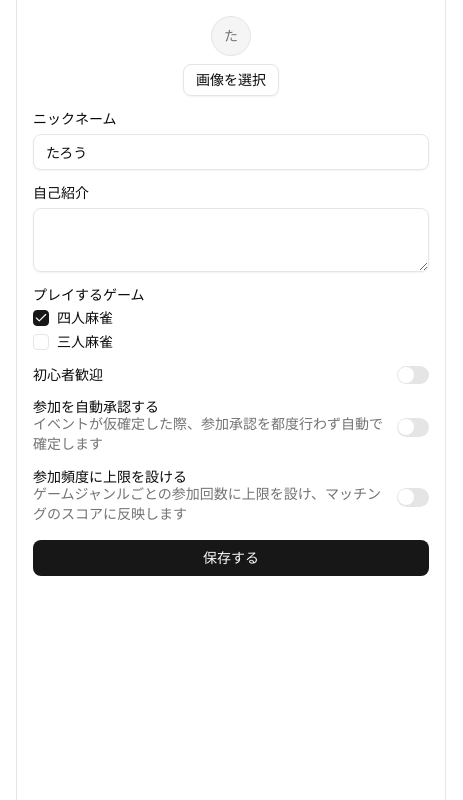
ProfileEditPage › 上限設定オンで回数未入力のまま保存するとインラインエラーを出し、送信しない
expect the field labelled "ニックネーム" is shown: met, box [33,134,429,170]
Click the switch named "参加頻度に上限を設ける" next to "ゲームジャンルごとの参加回数に上限を設け、マッチングのスコアに反映します": {"x": 413, "y": 497} [397,488,429,507]
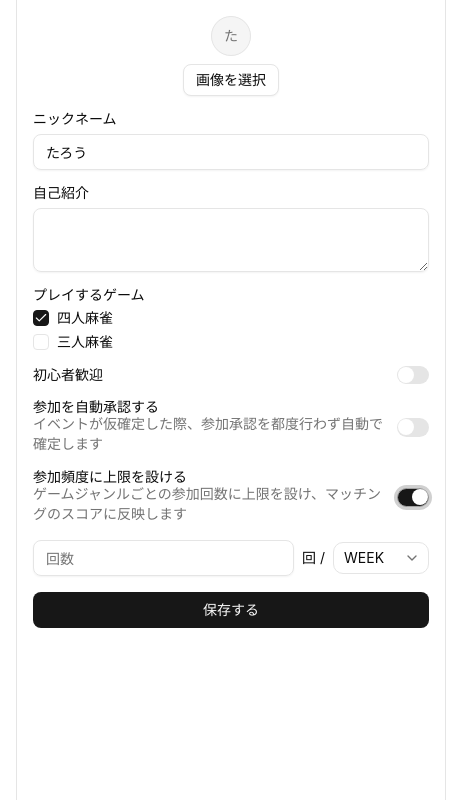
Click the button "保存する": {"x": 231, "y": 610} [33,592,429,628]
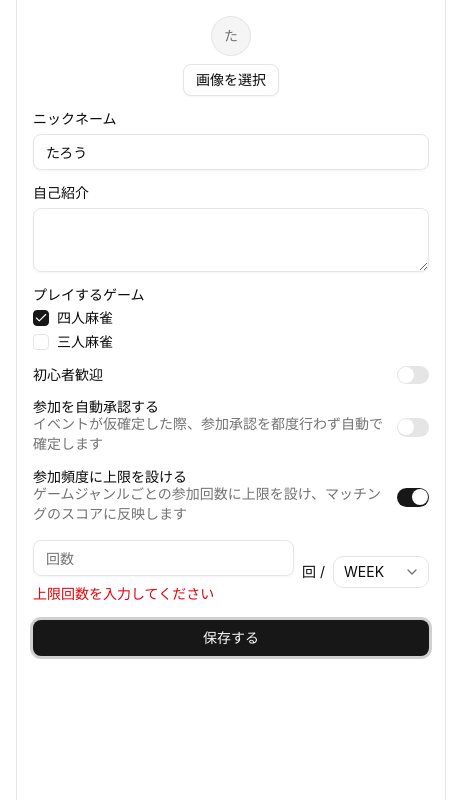
expect the text "上限回数を入力してください" is shown: met, box [33,585,214,602]
